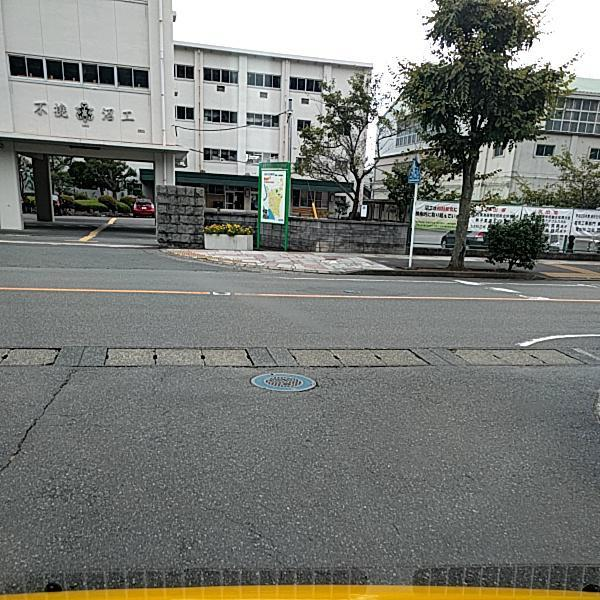D00: (0, 365, 77, 462)
D50: (249, 372, 317, 391)
